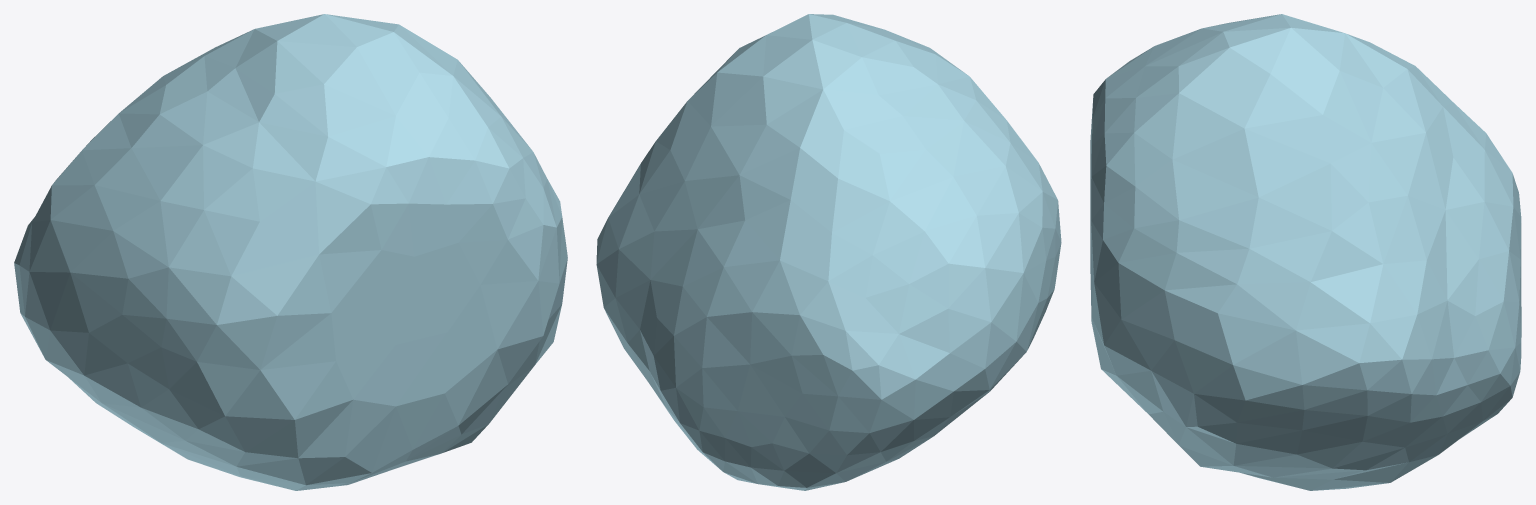
Rendered from livertumor06.obj.
The picture shows the model from 3 angles, left to right: view 1: azimuth 30°, elevation 25°; view 2: azimuth 150°, elevation 25°; view 3: azimuth 270°, elevation 25°; orthographic projection. The views are drawn at different scales.
Parts seen in each view (by area): view 1: grp1; view 2: grp1; view 3: grp1.
Boxes of the visible parts, x1=… form: grp1: x1=14, y1=14, x2=567, y2=490; grp1: x1=596, y1=14, x2=1061, y2=490; grp1: x1=1090, y1=14, x2=1521, y2=490.
Bounding box in the file's own units: 9.5 × 9.3 × 8.
